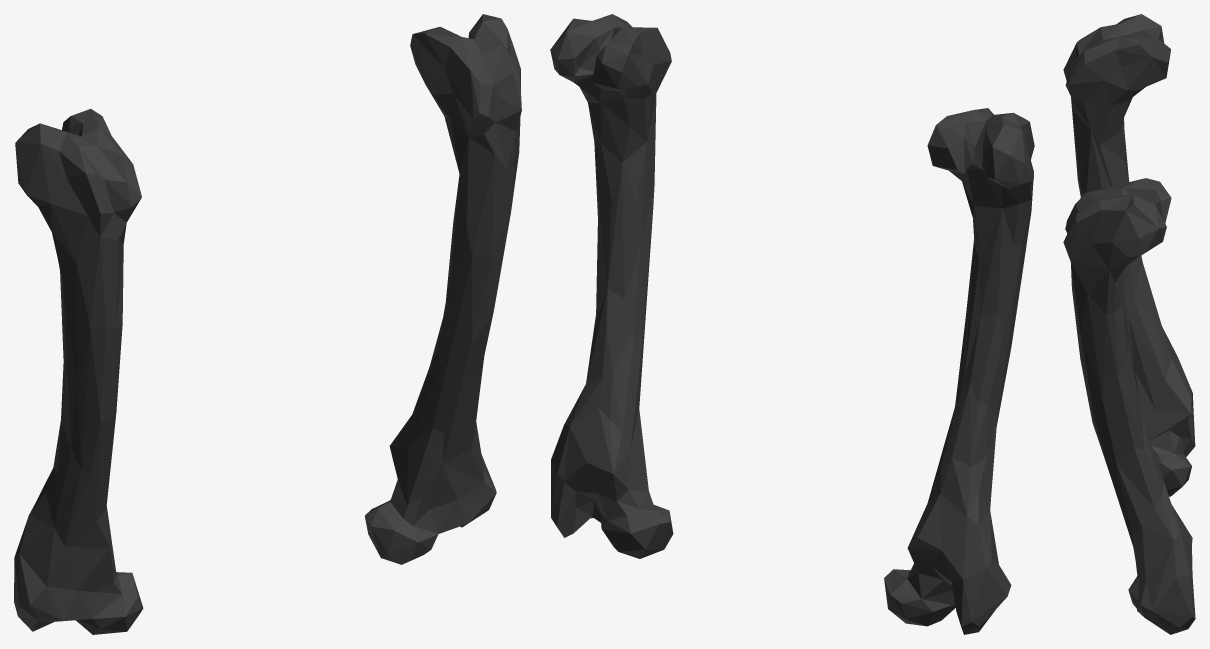
File: Femur.glb
The picture shows the model from 3 angles, left to right: view 1: azimuth 30°, elevation 25°; view 2: azimuth 150°, elevation 25°; view 3: azimuth 270°, elevation 25°; orthographic projection. The views are drawn at different scales.
Visible parts, largest first — view 1: Femur; view 2: Femur; view 3: Femur.
Part boxes in pixels (left/top/right/bottom): Femur: left=14, top=14, right=521, bottom=634; Femur: left=550, top=14, right=1034, bottom=634; Femur: left=1063, top=14, right=1195, bottom=634.
Size of the model in its own units: 0.00531 by 0.0055 by 0.00146.
Materials: 1 (1 with a texture image).
